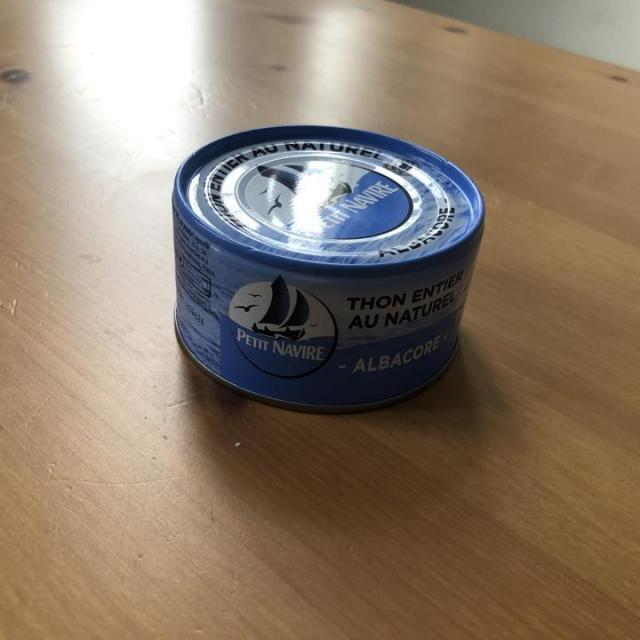recyclable: (169, 118, 486, 400)
